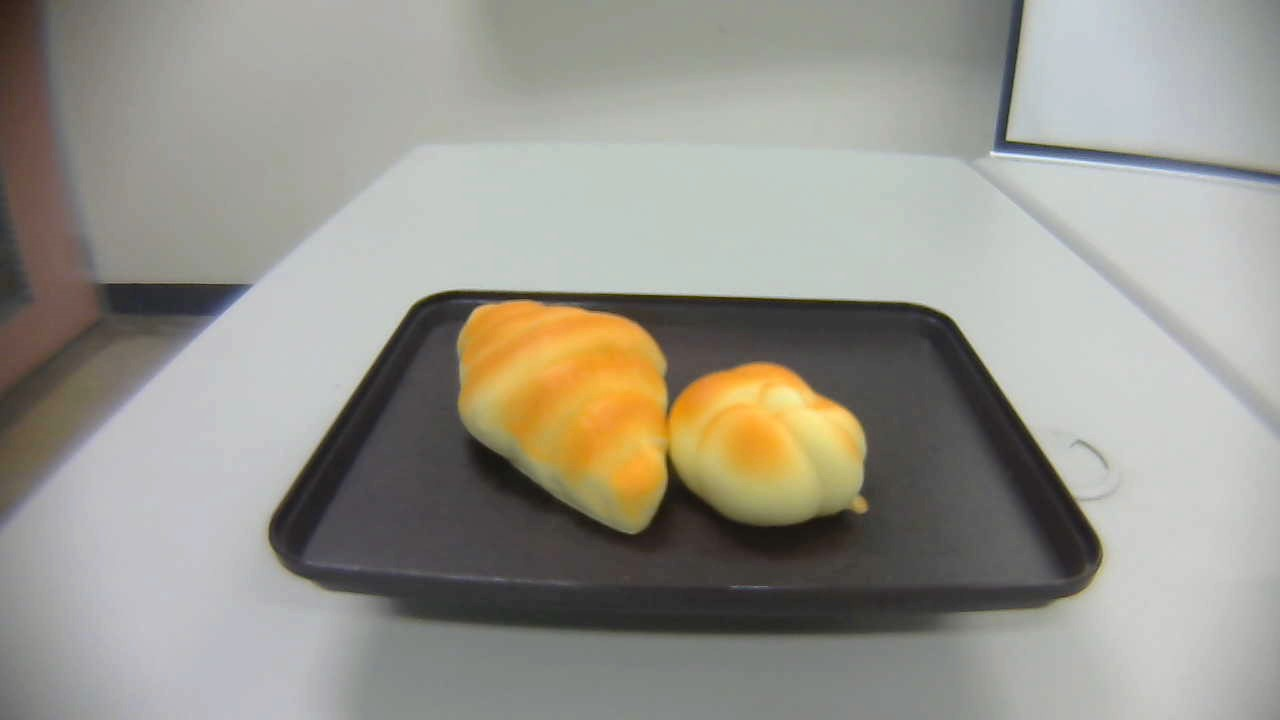croissant: (454, 297, 669, 537)
twist bread: (667, 360, 871, 531)
